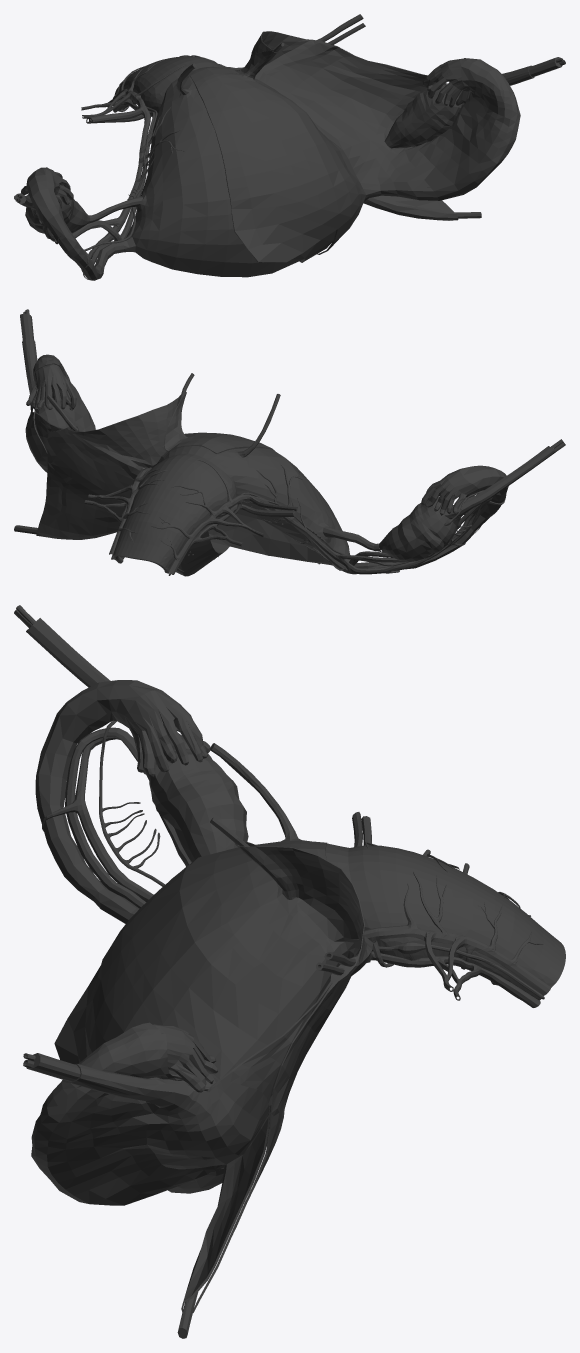
File: sharedassets75.glb
3 renders of one model, top to bottom at view 1: azimuth 30°, elevation 25°; view 2: azimuth 150°, elevation 25°; view 3: azimuth 270°, elevation 25°, orthographic. The views are drawn at different scales.
Visible parts, largest first — view 1: 0064_Perimetrium_body_female_repro_support_30, 0020_Mesometrium_female_repro_support_305200, 0052_Myometrium_body_female_repro_support_305, 0042_Mesosalpinx_female_repro_support_305201, 0004_Myometrium_fundus_female_repro_support_3, 0018_Perimetrium_fundus_female_repro_support_, 0014_Mesovarium_female_repro_support_305202, 0015_Ovary, L_female_repro_support_305588, 0005_Ampulla, R_female_repro_support_305172, 0066_Vagina_female_repro_support_305197, 0061_Uterine vein, R_female_repro_support_305, 0040_Cardinal ligament_female_repro_support_3 (+14 smaller); view 2: 0020_Mesometrium_female_repro_support_305200, 0066_Vagina_female_repro_support_305197, 0052_Myometrium_body_female_repro_support_305, 0023_Ovary, R_female_repro_support_305170, 0011_Uterine cavity_female_repro_support_3051, 0061_Uterine vein, R_female_repro_support_305, 0019_Suspensory ligament of ovary _infundibul, 0005_Ampulla, R_female_repro_support_305172, 0064_Perimetrium_body_female_repro_support_30, 0070_Vaginal vein, R_female_repro_support_305, 0035_Infundibulum, R_female_repro_support_305, 0046_Fimbriae, L_female_repro_support_305590 (+16 smaller); view 3: 0064_Perimetrium_body_female_repro_support_30, 0020_Mesometrium_female_repro_support_305200, 0042_Mesosalpinx_female_repro_support_305201, 0066_Vagina_female_repro_support_305197, 0005_Ampulla, R_female_repro_support_305172, 0014_Mesovarium_female_repro_support_305202, 0023_Ovary, R_female_repro_support_305170, 0029__Suspensory ligaments of ovaries _infund, 0044_Vaginal vein, L_female_repro_support_305, 0051_Fimbriae, R_female_repro_support_305173, 0061_Uterine vein, R_female_repro_support_305, 0012_Uterine artery, tubal branch, R_female_r (+11 smaller).
Boxes of the visible parts, x1,y1,x2,y2 form: 0064_Perimetrium_body_female_repro_support_30: (190, 68, 357, 231); 0020_Mesometrium_female_repro_support_305200: (239, 31, 458, 220); 0052_Myometrium_body_female_repro_support_305: (127, 66, 233, 236); 0042_Mesosalpinx_female_repro_support_305201: (357, 58, 520, 204); 0004_Myometrium_fundus_female_repro_support_3: (131, 229, 335, 277); 0018_Perimetrium_fundus_female_repro_support_: (234, 181, 362, 263); 0014_Mesovarium_female_repro_support_305202: (340, 83, 465, 182); 0015_Ovary, L_female_repro_support_305588: (384, 84, 463, 148); 0005_Ampulla, R_female_repro_support_305172: (28, 174, 104, 280); 0066_Vagina_female_repro_support_305197: (114, 56, 224, 113); 0061_Uterine vein, R_female_repro_support_305: (35, 101, 150, 273); 0040_Cardinal ligament_female_repro_support_3: (255, 39, 338, 84); 0020_Mesometrium_female_repro_support_305200: (35, 392, 186, 539); 0066_Vagina_female_repro_support_305197: (113, 453, 236, 573); 0052_Myometrium_body_female_repro_support_305: (151, 446, 345, 576); 0023_Ovary, R_female_repro_support_305170: (379, 497, 456, 561); 0011_Uterine cavity_female_repro_support_3051: (208, 509, 332, 565); 0061_Uterine vein, R_female_repro_support_305: (242, 494, 492, 574); 0019_Suspensory ligament of ovary _infundibul: (444, 446, 555, 527); 0005_Ampulla, R_female_repro_support_305172: (403, 465, 508, 569); 0064_Perimetrium_body_female_repro_support_30: (150, 432, 274, 467); 0070_Vaginal vein, R_female_repro_support_305: (167, 495, 263, 574); 0035_Infundibulum, R_female_repro_support_305: (440, 466, 486, 498); 0046_Fimbriae, L_female_repro_support_305590: (26, 382, 76, 411); 0064_Perimetrium_body_female_repro_support_30: (85, 840, 336, 1188); 0020_Mesometrium_female_repro_support_305200: (181, 841, 367, 1312); 0042_Mesosalpinx_female_repro_support_305201: (31, 1022, 223, 1205); 0066_Vagina_female_repro_support_305197: (348, 845, 565, 1000); 0005_Ampulla, R_female_repro_support_305172: (35, 680, 139, 923); 0014_Mesovarium_female_repro_support_305202: (141, 1070, 270, 1169); 0023_Ovary, R_female_repro_support_305170: (149, 749, 248, 862); 0029__Suspensory ligaments of ovaries _infund: (67, 1063, 199, 1113); 0044_Vaginal vein, L_female_repro_support_305: (364, 922, 551, 995); 0051_Fimbriae, R_female_repro_support_305173: (134, 715, 210, 776); 0061_Uterine vein, R_female_repro_support_305: (42, 736, 362, 901); 0012_Uterine artery, tubal branch, R_female_r: (65, 727, 146, 908).
Bounding box in the file's own units: 0.4847 × 0.1805 × 0.2472.
Materials: 1 (1 with a texture image).
